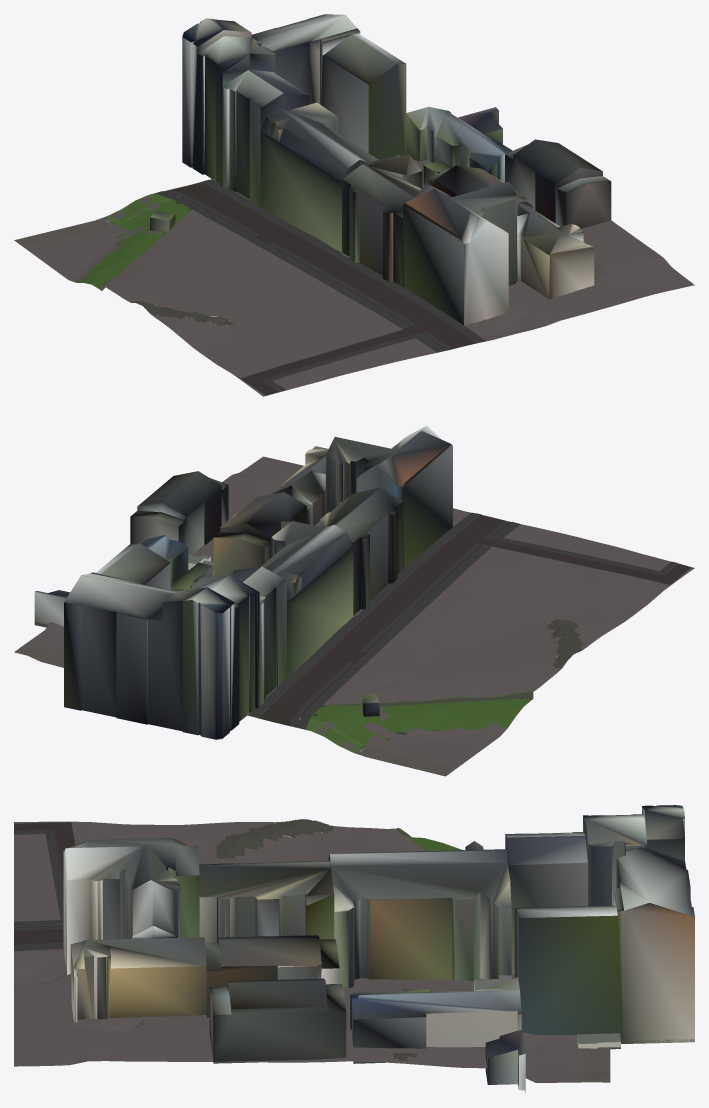
The picture shows the model from 3 angles, top to bottom: view 1: azimuth 30°, elevation 25°; view 2: azimuth 150°, elevation 25°; view 3: azimuth 270°, elevation 25°; orthographic projection. The views are drawn at different scales.
Parts seen in each view (by area): view 1: c_m03_p06; view 2: c_m03_p06; view 3: c_m03_p06.
Part boxes in pixels (x1,y1,x2,y2): c_m03_p06: [14, 14, 694, 396]; c_m03_p06: [14, 425, 694, 776]; c_m03_p06: [14, 805, 694, 1092].
Size of the model in its own units: 132 by 41.18 by 146.
